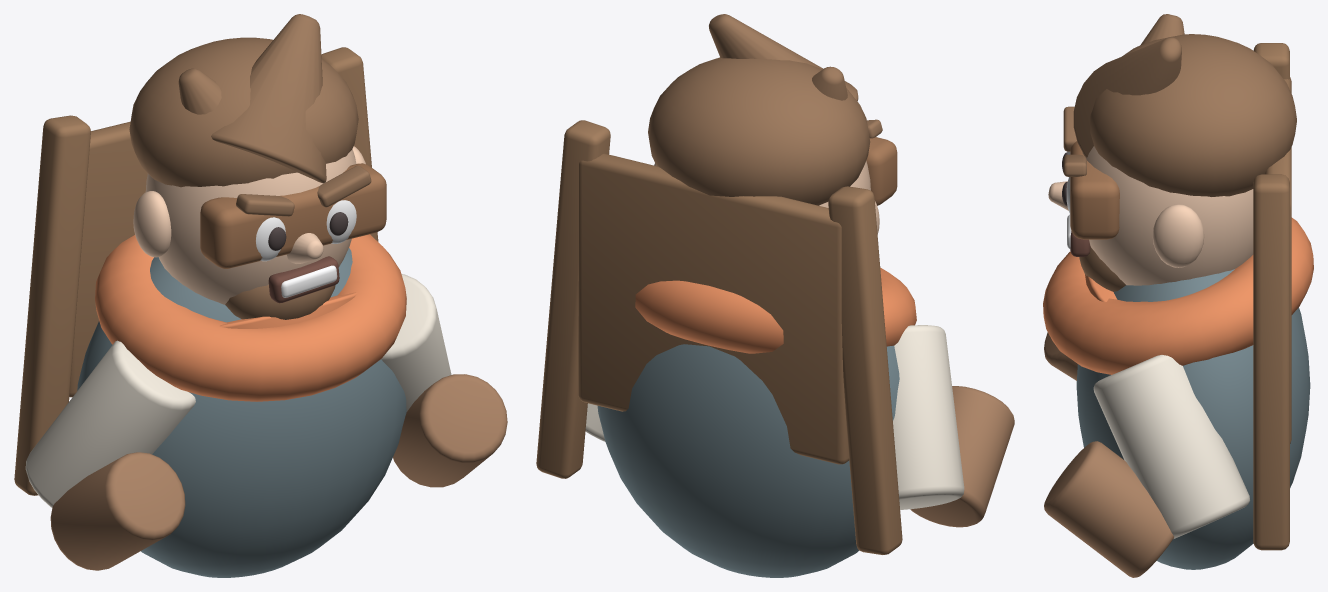
Rendered from opponent_heavy.glb.
3 views of the same model, side by side, from view 1: azimuth 30°, elevation 25°; view 2: azimuth 150°, elevation 25°; view 3: azimuth 270°, elevation 25° (orthographic). The views are drawn at different scales.
Visible parts, largest first — view 1: Sphere, Torus, Sphere.009, Cube, Cylinder, Cylinder.001, Cone.002, Cylinder.003, Sphere.001, Cube.002, Cube.003, Cylinder.002 (+12 smaller); view 2: Cube.002, Sphere, Sphere.009, Cube, Cube.001, Cylinder, Torus, Cylinder.001, Cone.002, Cube.003, Cone.003; view 3: Sphere.009, Torus, Cylinder.002, Sphere, Cube.001, Sphere.001, Cylinder.003, Cone.002, Cube.003, Sphere.003, Cube.002, Sphere.004 (+7 smaller).
Boxes of the visible parts, x1,y1,x2,y2 form: Sphere: (77,248,406,577); Torus: (95,234,406,401); Sphere.009: (129,37,358,187); Cube: (14,115,90,495); Cylinder: (25,340,195,507); Cylinder.001: (50,452,185,570); Cone.002: (211,14,326,183); Cylinder.003: (393,374,507,487); Sphere.001: (145,149,356,304); Cube.002: (69,121,147,397); Cube.003: (200,163,386,268); Cylinder.002: (381,274,451,411); Cube.002: (578,153,849,464); Sphere: (597,344,899,577); Sphere.009: (648,57,870,205); Cube: (828,186,902,554); Cube.001: (536,120,610,478); Cylinder: (893,325,964,509); Torus: (635,267,916,353); Cylinder.001: (910,386,1014,527); Cone.002: (709,14,858,100); Cube.003: (866,137,897,205); Cone.003: (812,66,847,100); Sphere.009: (1090,34,1296,196); Torus: (1043,217,1313,374); Cylinder.002: (1093,355,1249,538); Sphere: (1076,269,1310,569); Cube.001: (1253,174,1289,550); Sphere.001: (1082,146,1253,285); Cylinder.003: (1044,441,1173,577); Cone.002: (1073,37,1181,157); Cube.003: (1070,141,1119,239); Sphere.003: (1152,204,1204,267); Cube.002: (1265,77,1291,443); Sphere.004: (1079,246,1125,291).
Size of the model in its own units: 2.85 by 3.57 by 1.63.
